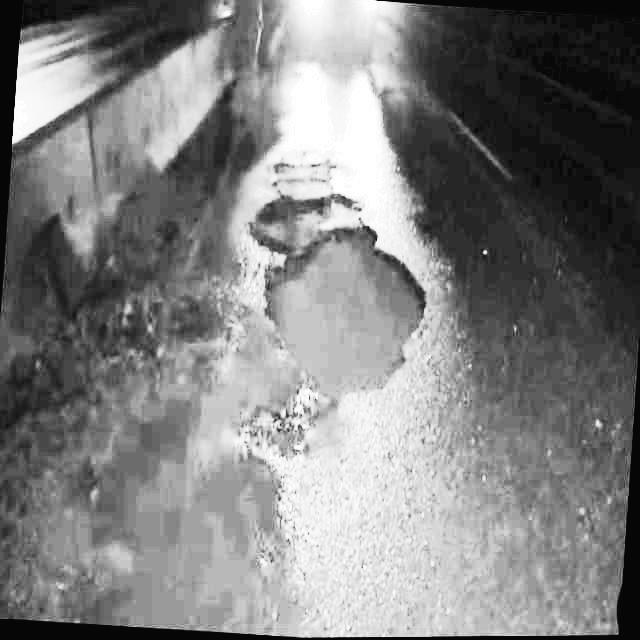Pothole: (246, 199, 435, 426)
